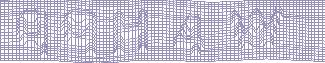4: (172, 14, 205, 57)
H: (112, 9, 150, 57)
W: (228, 7, 282, 50)
q: (62, 9, 98, 57), (16, 7, 48, 59)
